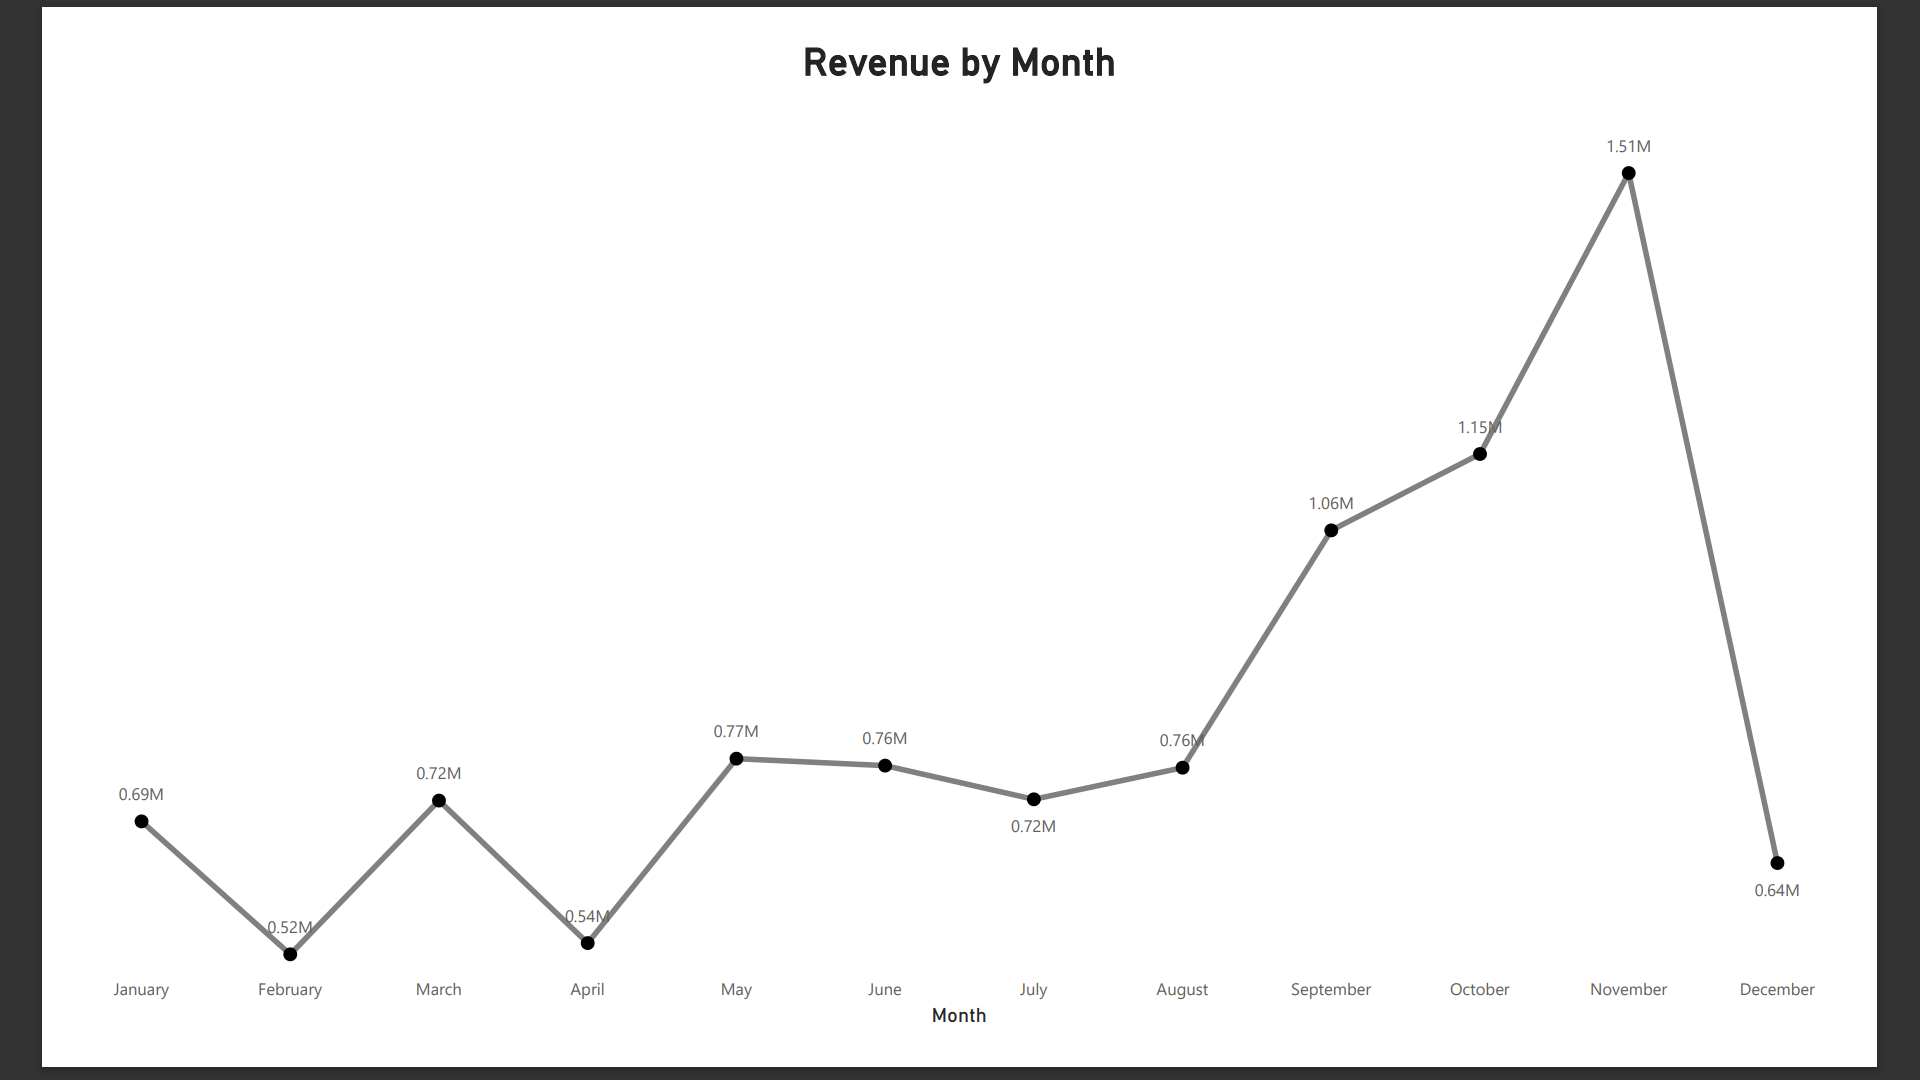

The dashboard page shown, as its layout file describes it:
{"tool":"powerbi","page":{"name":"Question 1","canvas":[1280,720],"ordinal":0},"visuals":[{"type":"lineChart","title":"Revenue by Month","fields":{"Category":["Online Retail.InvoiceDate.Variation.Date Hierarchy.Month"],"Y":["Sum(Online Retail.Total Revenue)"]},"box":[0,0,1280,720],"z":0}]}

Visuals, with their boxes in screenshot pixels (x1, y1, x2, y2), scaled from the page's 1280x720 canvas onto the 1920x1080 screenshot:
"Revenue by Month" lineChart: box=[0, 0, 1919, 1079]
